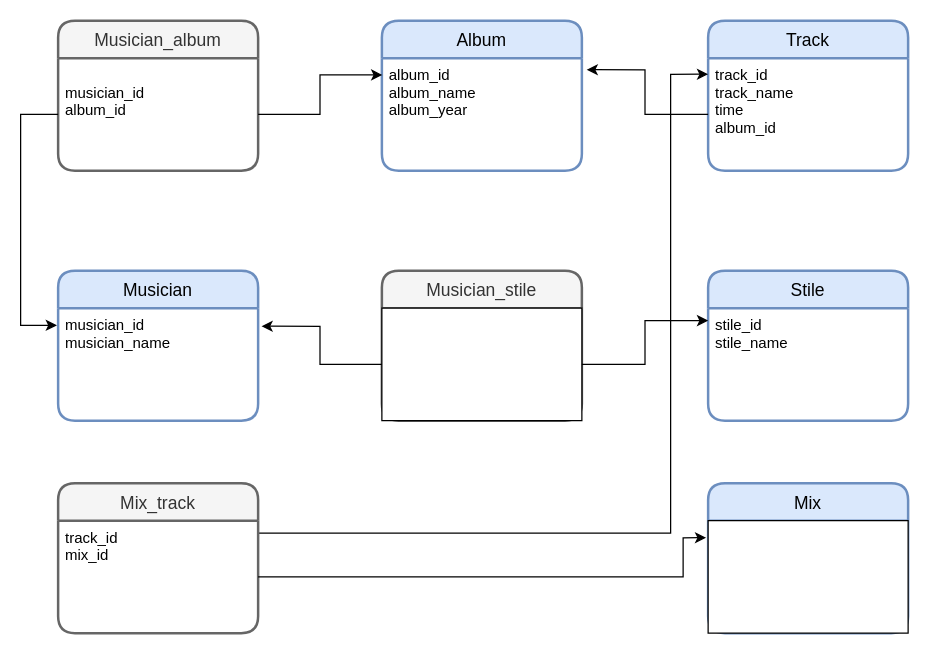
The diagram is 929 pixels wide and 654 high, and some of its shapes have lost their labels. Each missing label, with the centre of its shape:
mix_id mix_name year: [807,576]
musician_id stile_id: [481,364]
